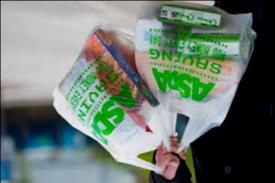Plastic: (122, 1, 260, 149), (48, 26, 182, 174)
